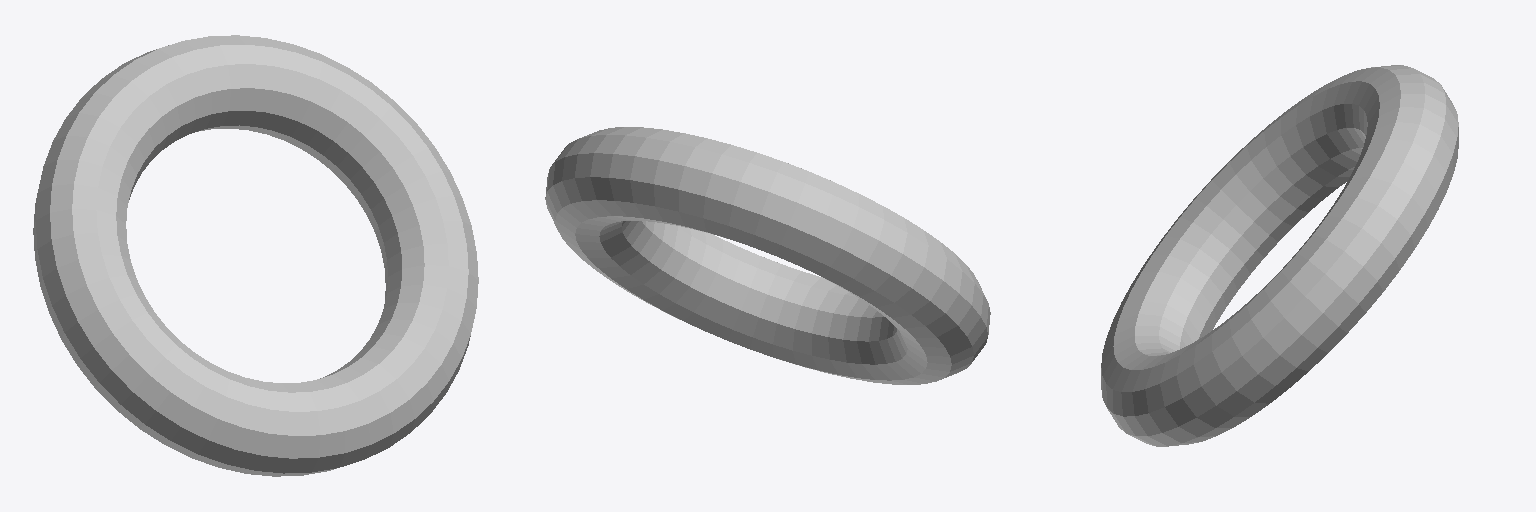
The model's file is Ciambella marmo.obj.
3 renders of one model, left to right at view 1: azimuth 30°, elevation 25°; view 2: azimuth 150°, elevation 25°; view 3: azimuth 270°, elevation 25°, orthographic.
Parts seen in each view (by area): view 1: Torus; view 2: Torus; view 3: Torus.
Boxes of the visible parts, x1=… form: Torus: x1=33, y1=35, x2=478, y2=476; Torus: x1=545, y1=127, x2=990, y2=384; Torus: x1=1101, y1=65, x2=1458, y2=446.
Size of the model in its own units: 2500 by 1897 by 1897.